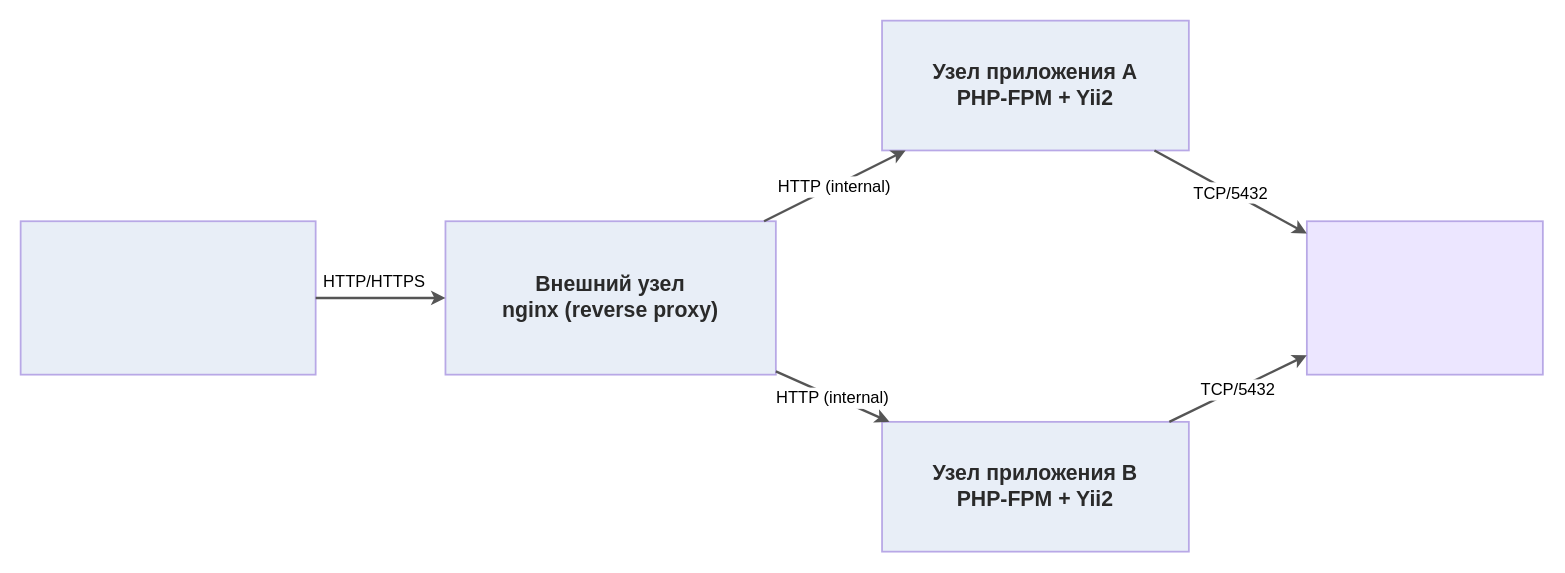
Image size: 1565x573. Some labels were removed from this diagram. Each missing label, with the centre of its shape:
Клиентские узлы браузер пользователей: the point at 167,297
Узел БД PostgreSQL: the point at 1424,297
